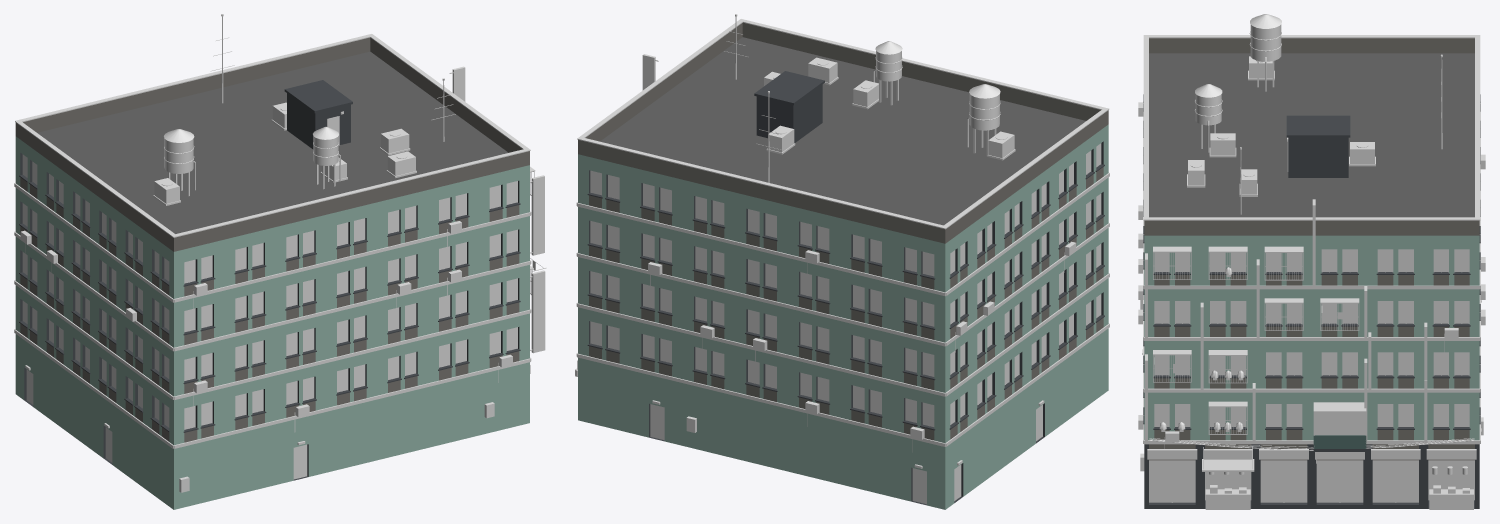
Rendered from Plaza_Block_19.fbx.
3 renders of one model, left to right at view 1: azimuth 30°, elevation 25°; view 2: azimuth 150°, elevation 25°; view 3: azimuth 270°, elevation 25°, orthographic. The views are drawn at different scales.
Parts seen in each view (by area): view 1: Plaza_Block_19_LOD0; view 2: Plaza_Block_19_LOD0; view 3: Plaza_Block_19_LOD0.
Boxes of the visible parts, box(x1,y1,x2,y2) form: Plaza_Block_19_LOD0: box(14, 14, 546, 509); Plaza_Block_19_LOD0: box(575, 14, 1109, 509); Plaza_Block_19_LOD0: box(1138, 14, 1485, 509).
Size of what is drawn, in the model's own units: 27.96 by 24.19 by 20.73.
